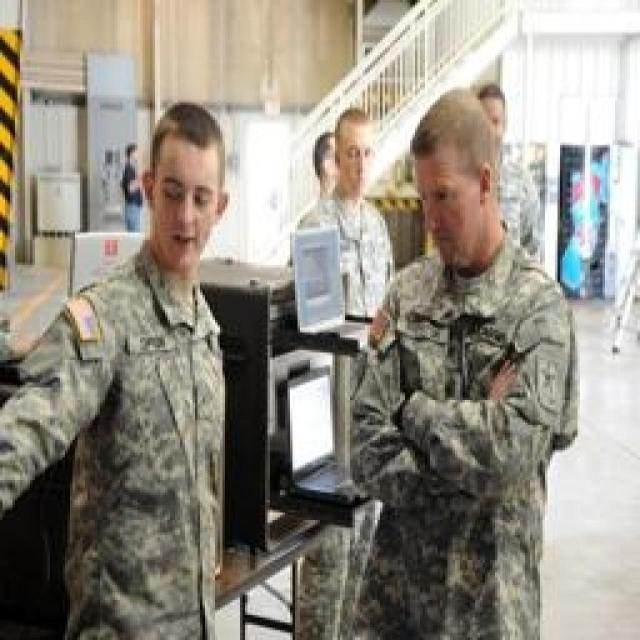Helmet: (362, 246, 584, 640), (47, 259, 262, 640), (402, 75, 507, 293), (123, 72, 235, 262), (295, 188, 395, 338), (485, 142, 553, 292), (330, 97, 384, 208), (474, 70, 522, 170), (307, 125, 342, 194)
